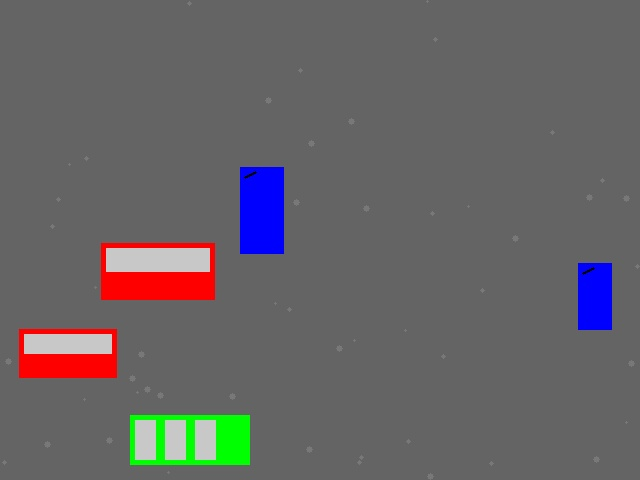bus: (130, 415, 249, 464)
car: (101, 243, 214, 299), (19, 329, 116, 377)
motorcycle: (240, 167, 283, 253), (578, 263, 611, 329)
